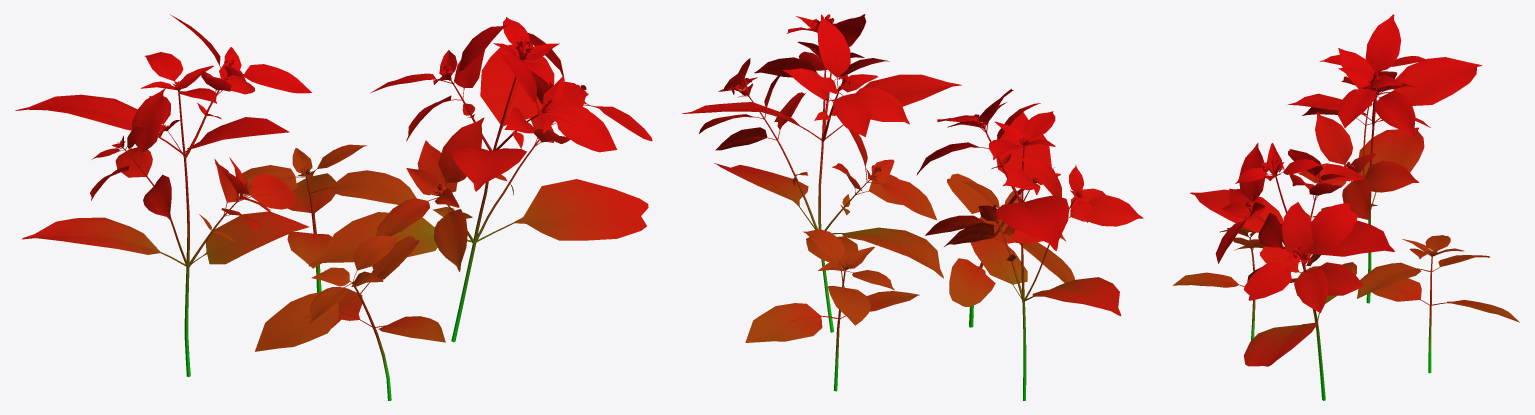
File: Common Hemp Nettle_LOD2_Var6_xh1kdfbqx.fbx
3 views of the same model, side by side, from view 1: azimuth 30°, elevation 25°; view 2: azimuth 150°, elevation 25°; view 3: azimuth 270°, elevation 25° (orthographic). The views are drawn at different scales.
Parts seen in each view (by area): view 1: _w8vg_Var6_LOD2; view 2: _w8vg_Var6_LOD2; view 3: _w8vg_Var6_LOD2.
Part boxes in pixels (x1,y1,x2,y2): _w8vg_Var6_LOD2: [15, 14, 652, 400]; _w8vg_Var6_LOD2: [682, 14, 1143, 400]; _w8vg_Var6_LOD2: [1173, 14, 1519, 400].
Bounding box in the file's own units: 87.91 × 55.63 × 60.48.
